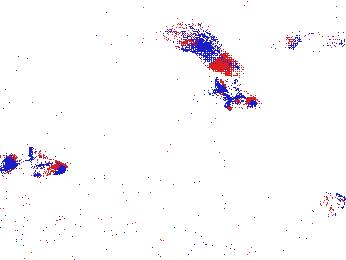X-ray fish: (311, 187, 346, 221), (105, 219, 136, 257)
red belly glassfish: (217, 82, 258, 109), (22, 157, 68, 176)
redtail glassfish: (164, 20, 253, 79), (276, 25, 346, 56)
